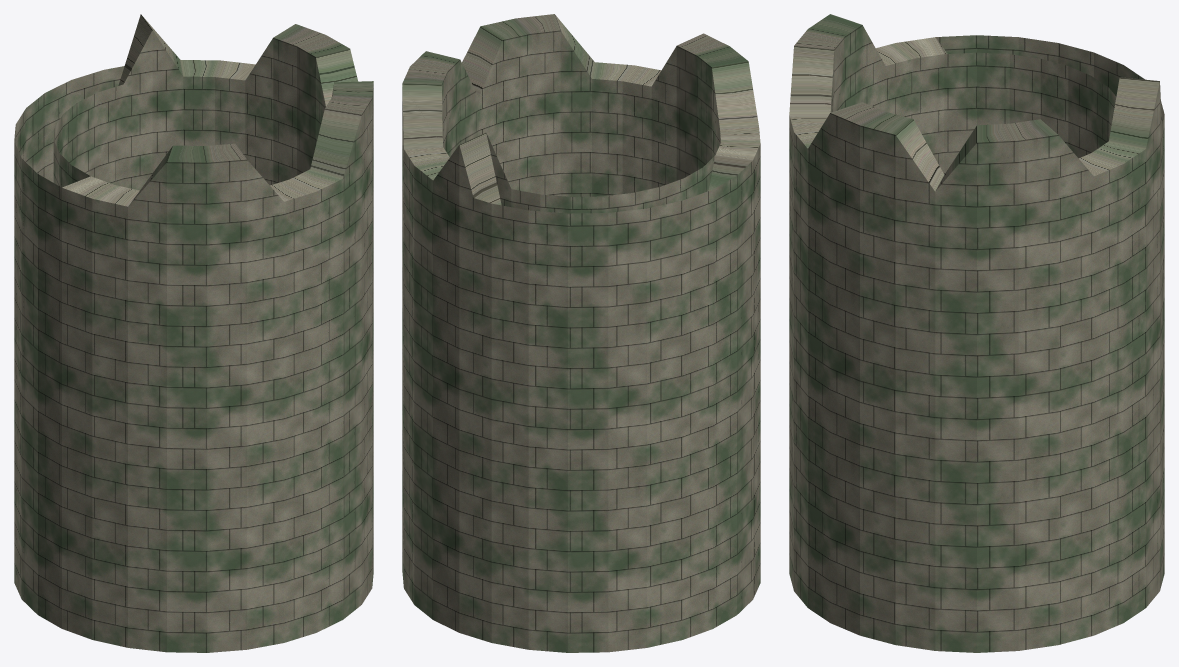
File: ruinas_torre.fbx
3 views of the same model, side by side, from view 1: azimuth 30°, elevation 25°; view 2: azimuth 150°, elevation 25°; view 3: azimuth 270°, elevation 25° (orthographic). The views are drawn at different scales.
Visible parts, largest first — view 1: ruinas_torre; view 2: ruinas_torre; view 3: ruinas_torre.
Part boxes in pixels (bbox=[...]): ruinas_torre: bbox=[14, 14, 373, 652]; ruinas_torre: bbox=[402, 14, 760, 652]; ruinas_torre: bbox=[789, 14, 1164, 652].
Size of the model in its own units: 4 by 6 by 4.
Materials: 1 (1 with a texture image).
